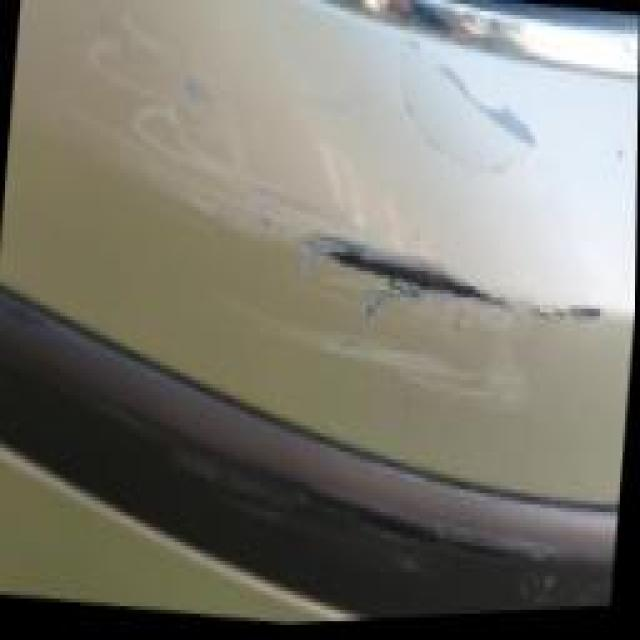Bumper: (35, 0, 640, 535)
